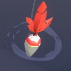idle: (22, 1, 54, 59)
